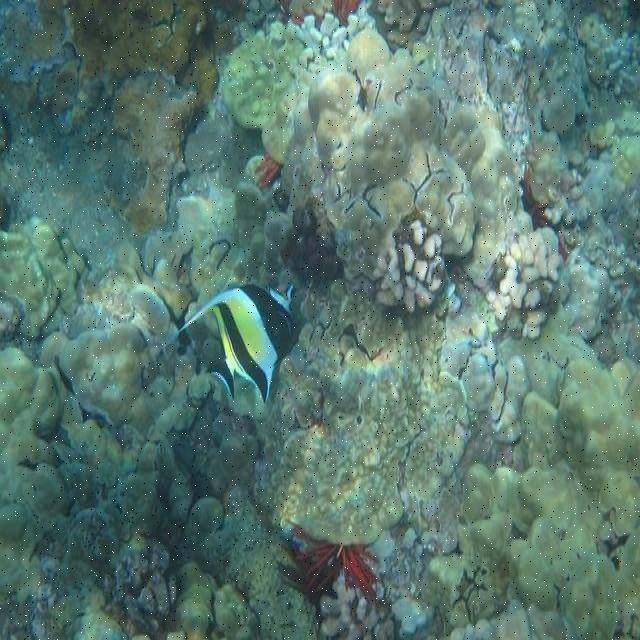fish: (164, 283, 295, 403)
reefs: (262, 29, 560, 321), (425, 356, 639, 637), (296, 544, 376, 597), (256, 153, 282, 186)
